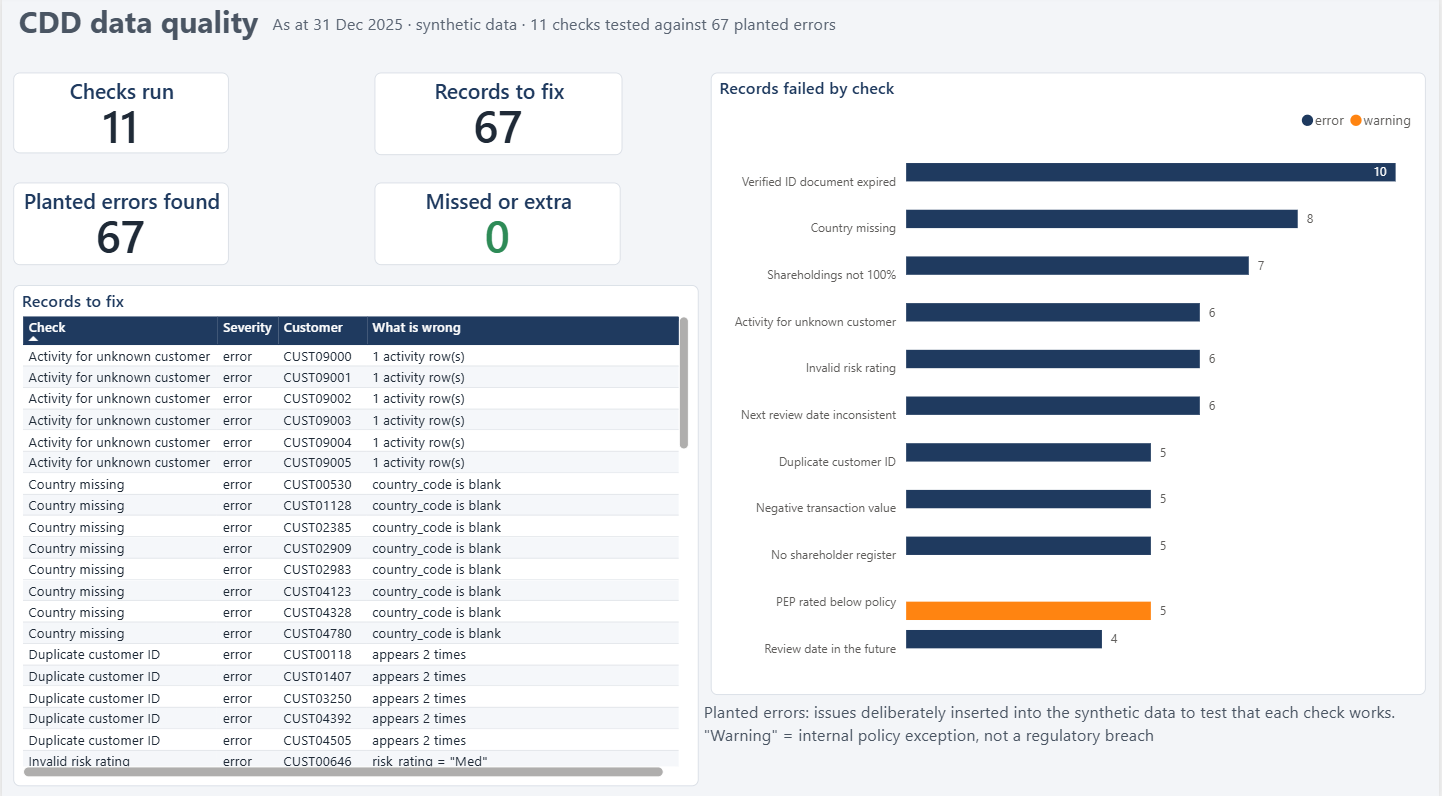

This screenshot's page, from the dashboard's own definition file:
{"tool":"powerbi","page":{"name":"Data quality","canvas":[1280,720],"ordinal":0},"visuals":[{"type":"textbox","box":[9.8,0,705,46.5],"z":0},{"type":"cardVisual","title":"Checks run","fields":{"Data":["dq_summary.Checks run"]},"box":[9.7,68.8,191.8,72.4],"z":1000},{"type":"cardVisual","title":"Records to fix","fields":{"Data":["dq_summary.Records failed"]},"box":[331.8,68.8,220.8,73.6],"z":2000},{"type":"cardVisual","title":"Planted errors found","fields":{"Data":["dq_summary.Matched to answer key"]},"box":[9.7,166.5,191.8,73.6],"z":3000},{"type":"cardVisual","title":"Missed or extra","fields":{"Data":["dq_summary.Missed or extra"]},"box":[331.8,166.5,219.6,73.6],"z":4000},{"type":"clusteredBarChart","title":"Records failed by check","fields":{"Y":["dq_summary.Records failed"],"Series":["dq_summary.severity"],"Category":["dq_summary.Check"]},"box":[631.2,69,636.7,554.4],"z":5000},{"type":"tableEx","title":"Records to fix","fields":{"Values":["dq_summary.Check","dq_exceptions.severity","dq_exceptions.record_key","dq_exceptions.detail"]},"box":[10,258.3,610,446.4],"z":6000},{"type":"textbox","box":[236.5,9.7,563.4,59.1],"z":7000},{"type":"textbox","box":[620.1,623.7,647.9,59.1],"z":8000}]}

Visuals, with their boxes in screenshot pixels (x1, y1, x2, y2), scaled from the page's 1280x720 canvas onto the 1442x796 screenshot:
textbox: (11,0,805,51)
"Checks run" cardVisual: (11,76,227,156)
"Records to fix" cardVisual: (374,76,623,157)
"Planted errors found" cardVisual: (11,184,227,265)
"Missed or extra" cardVisual: (374,184,621,265)
"Records failed by check" clusteredBarChart: (711,76,1428,689)
"Records to fix" tableEx: (11,286,698,779)
textbox: (266,11,901,76)
textbox: (699,690,1428,755)
